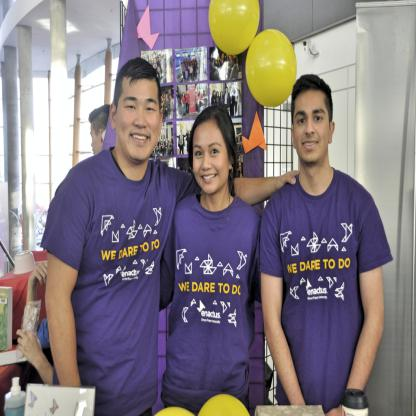Ball: (245, 29, 298, 106), (207, 0, 261, 57), (197, 394, 251, 416), (154, 406, 196, 416)
